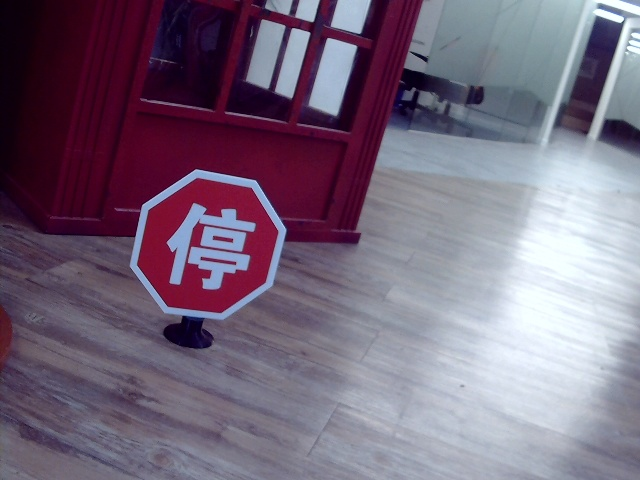stop: (167, 200, 250, 290)
